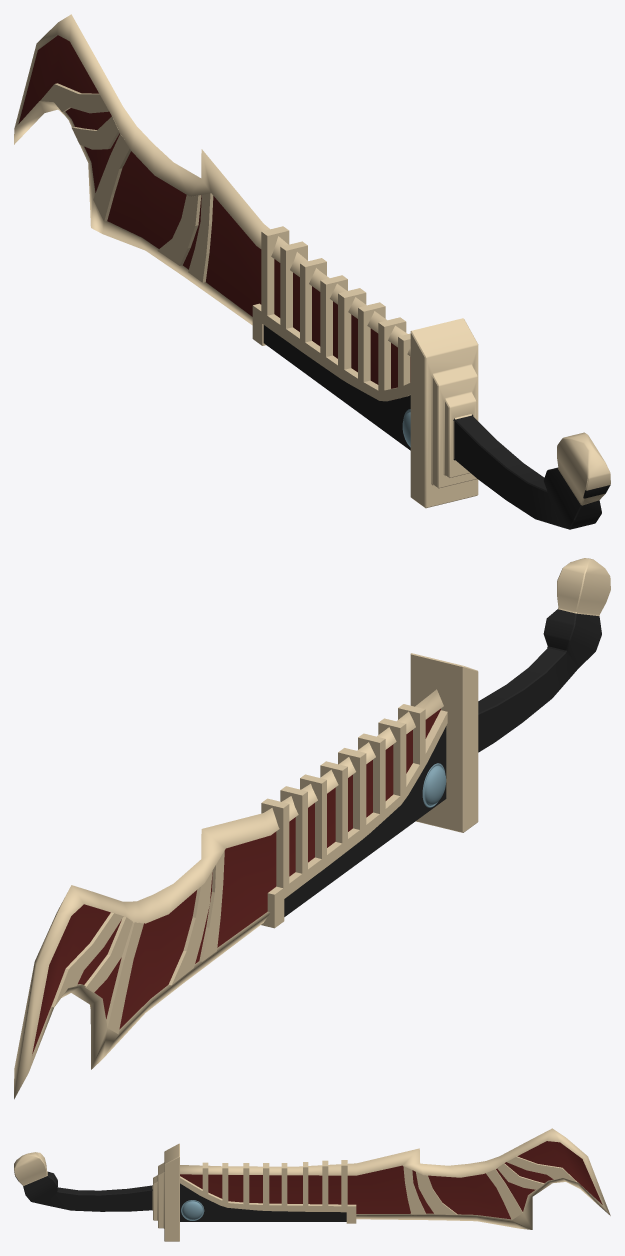
Rendered from kernviter.glb.
The picture shows the model from 3 angles, top to bottom: view 1: azimuth 30°, elevation 25°; view 2: azimuth 150°, elevation 25°; view 3: azimuth 270°, elevation 25°; orthographic projection. The views are drawn at different scales.
Visible parts, largest first — view 1: Cube.001; view 2: Cube.001; view 3: Cube.001.
Part boxes in pixels (bbox=[...]): Cube.001: bbox=[14, 14, 610, 529]; Cube.001: bbox=[14, 558, 610, 1099]; Cube.001: bbox=[14, 1128, 610, 1241].
Bounding box in the file's own units: 0.0748 × 0.2789 × 1.41.
